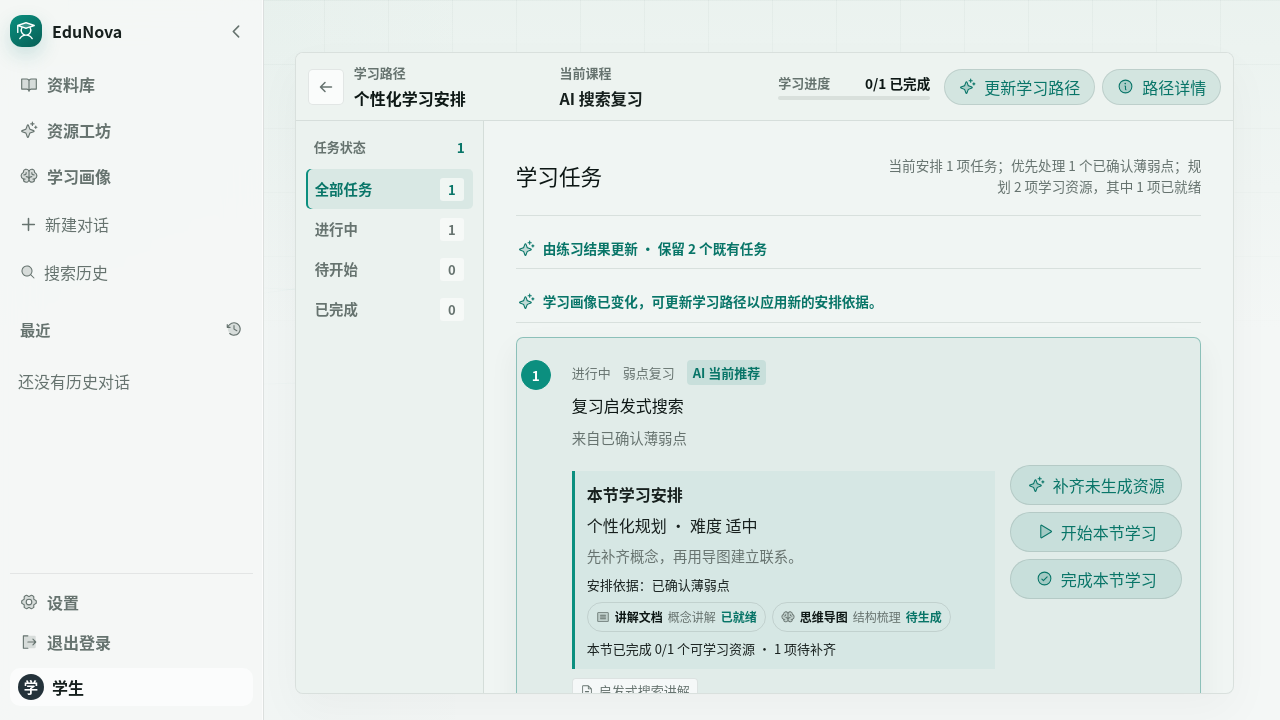
LearningPathPage › queues only the missing resources for the current section
Expected: the text "本节学习安排" is shown, [587, 482, 683, 506]
Expected: the text "本节已完成 0/1 个可学习资源 · 1 项待补齐" is shown, [587, 638, 836, 658]
Click the button "补齐未生成资源": point(1096, 485) [1010, 465, 1182, 505]
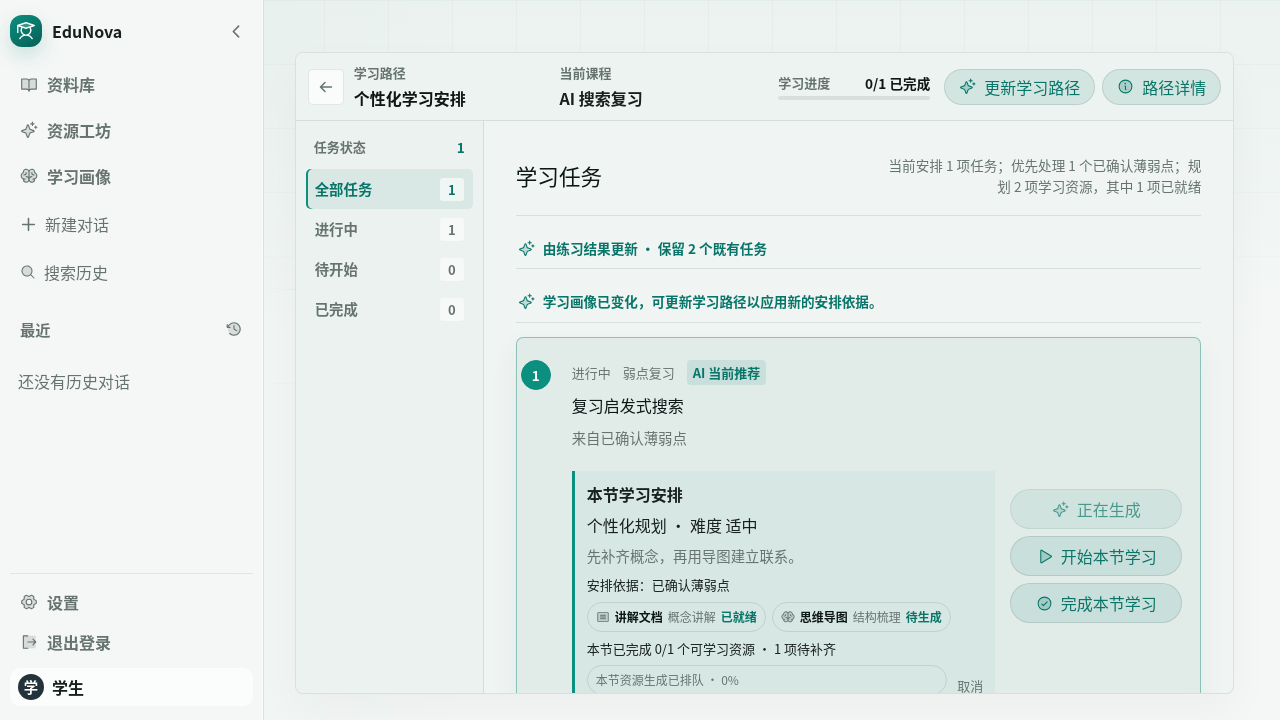
Now the button "正在生成" is disabled, box [1010, 489, 1182, 529]
